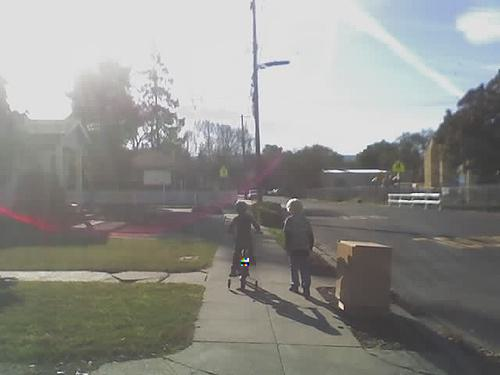car: (226, 231, 264, 294)
person: (284, 198, 316, 298), (224, 199, 265, 277)
